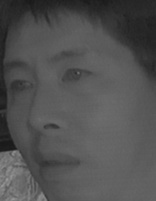eye: (61, 66, 96, 85), (5, 78, 33, 95)
mouth: (29, 148, 84, 179)
